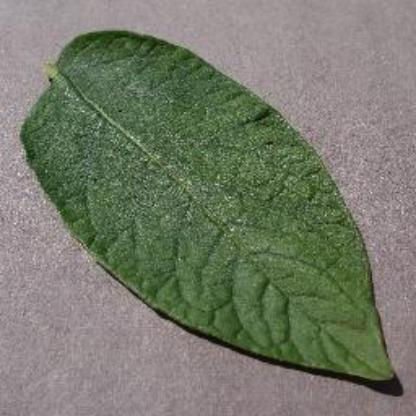Healthy-plant: (20, 26, 400, 388)
